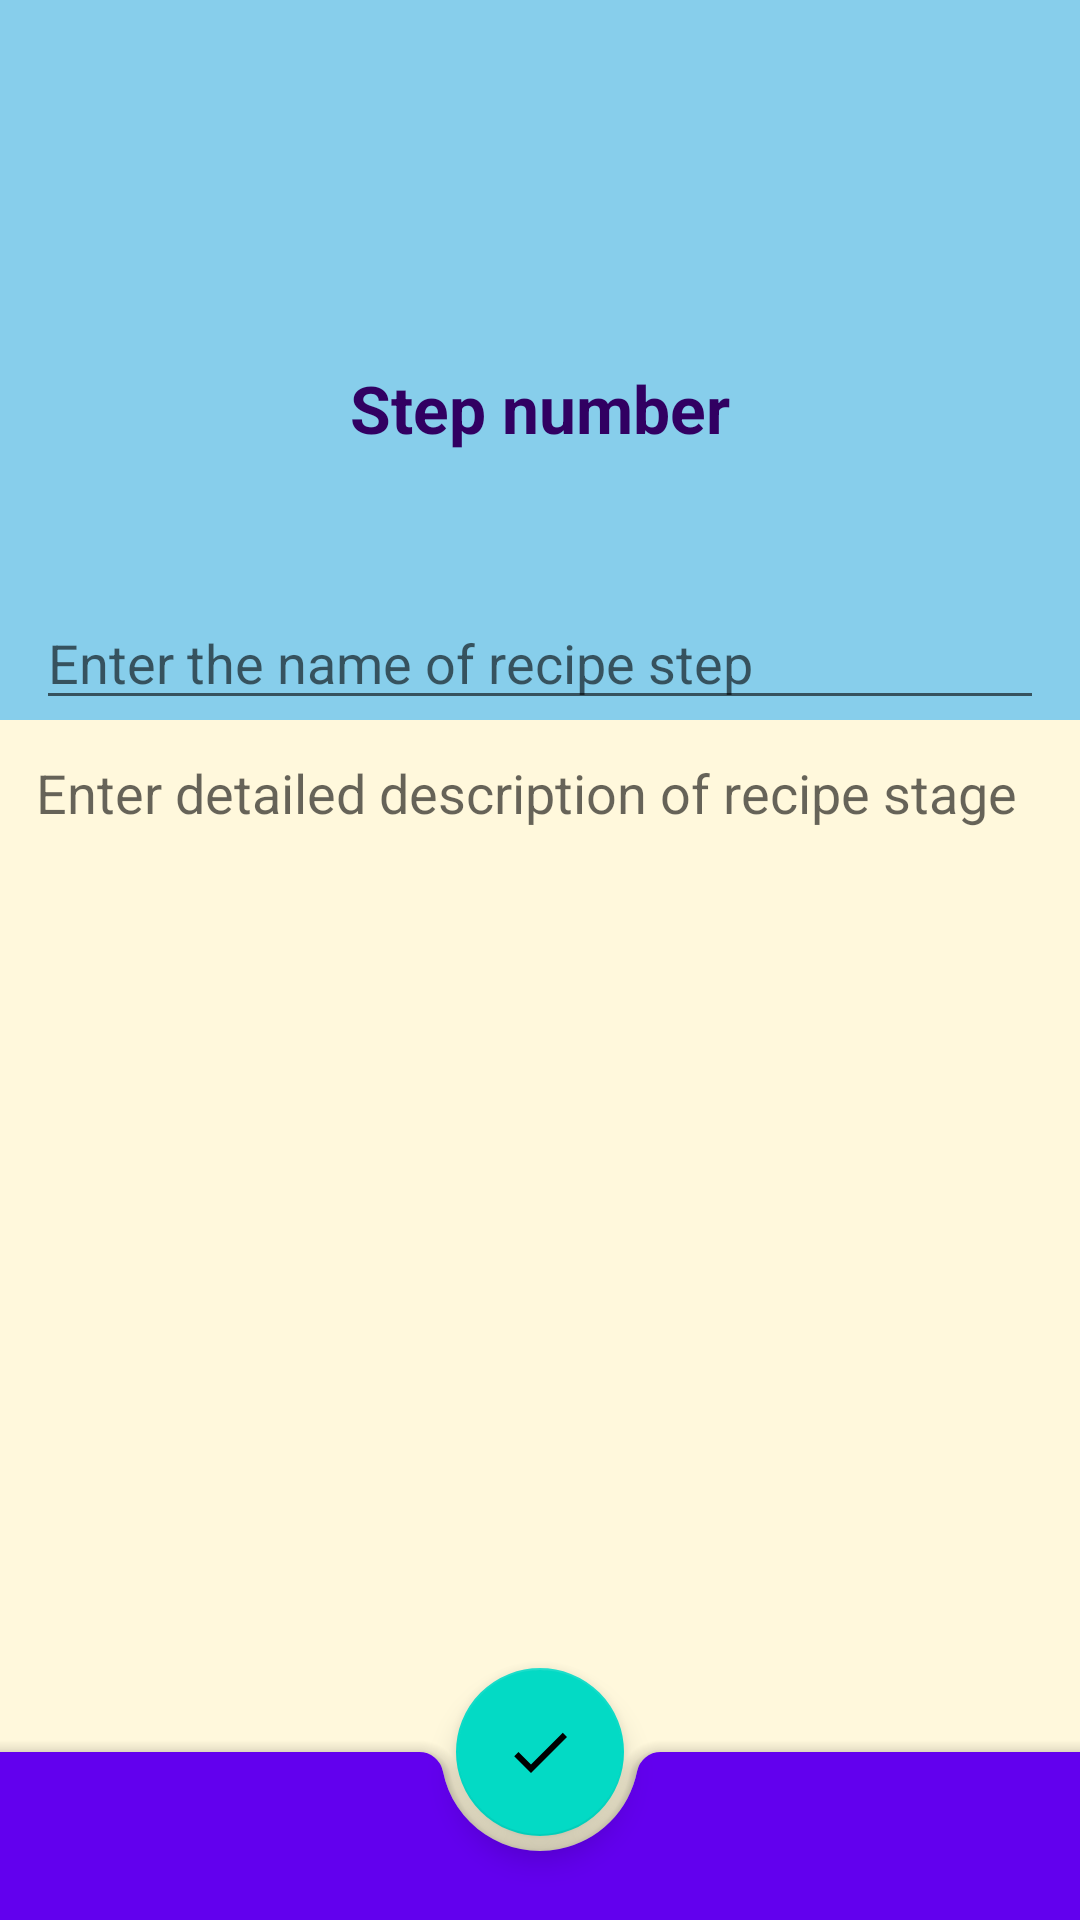

Where to tap for icons on this 1080 × 1920 app screen, as (x,y):
Save: (540,1752)
